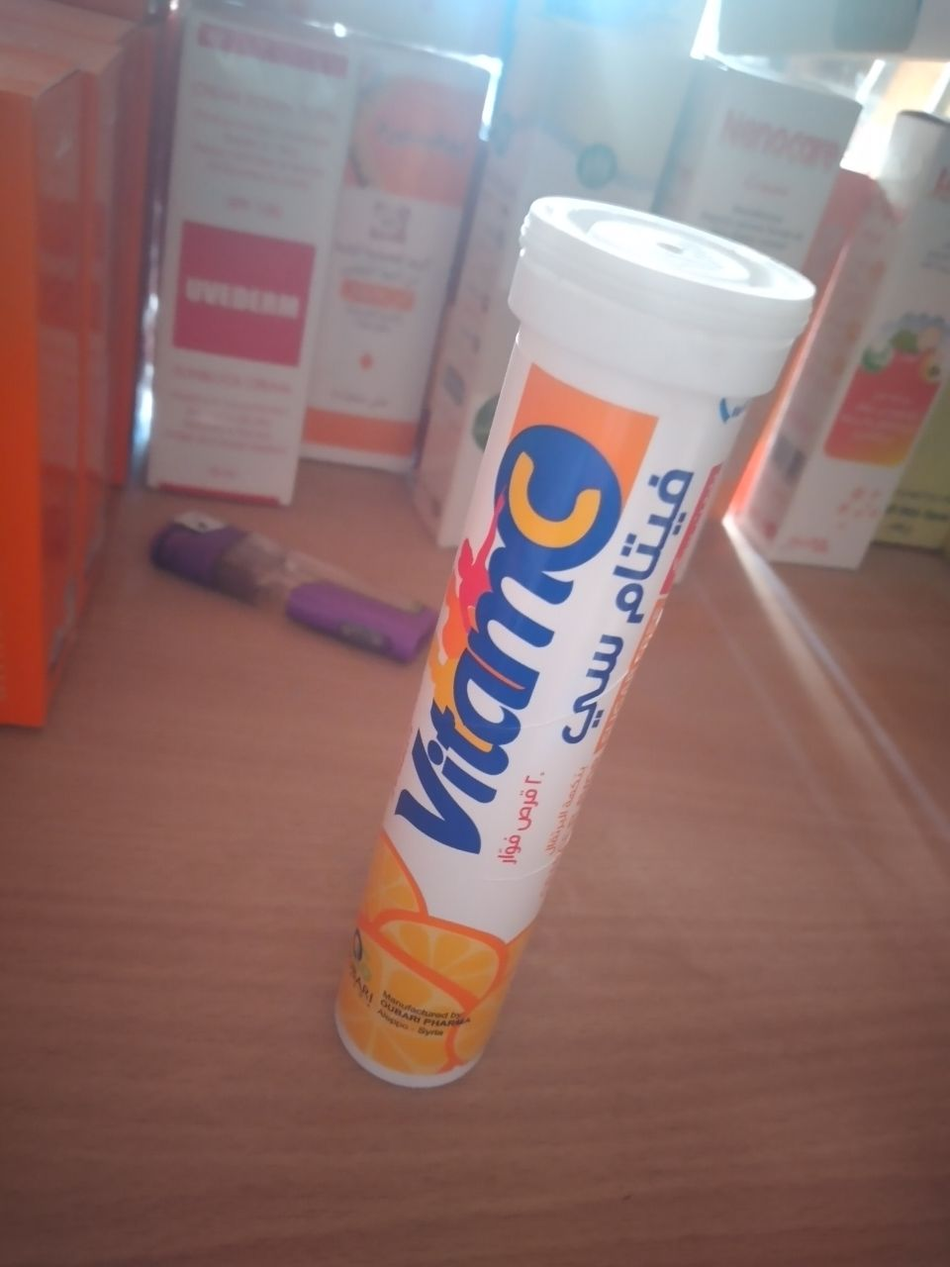Medicine: (320, 208, 808, 1092), (722, 122, 950, 574), (148, 26, 330, 518)
